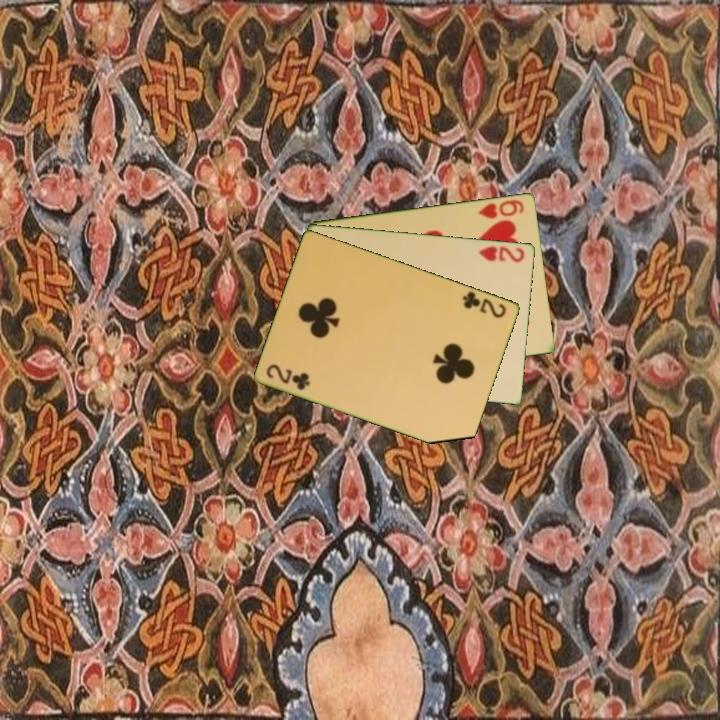2c: (459, 287, 510, 321), (263, 360, 313, 393)
2h: (475, 242, 527, 265)
6h: (475, 196, 527, 221)
